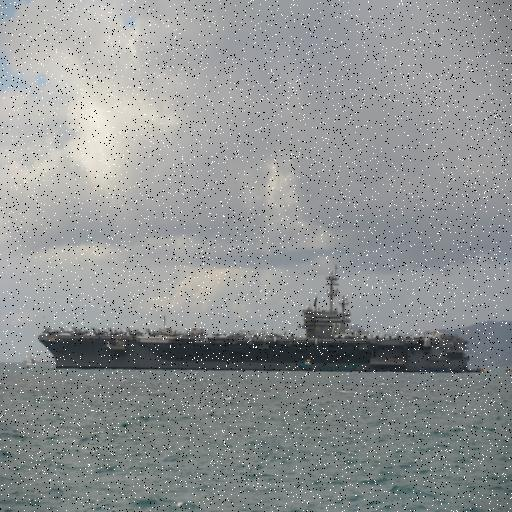Portanaves: (37, 261, 480, 372)
